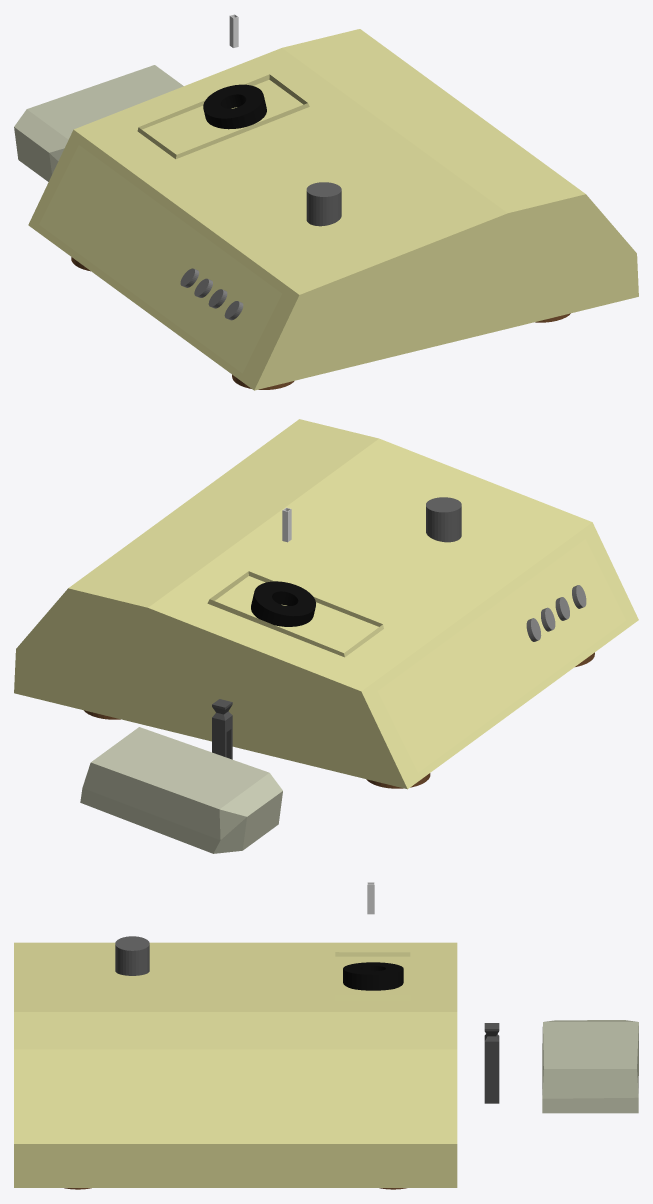
Rendered from spektrometer.fbx.
3 renders of one model, top to bottom at view 1: azimuth 30°, elevation 25°; view 2: azimuth 150°, elevation 25°; view 3: azimuth 270°, elevation 25°, orthographic. The views are drawn at different scales.
Parts seen in each view (by area): view 1: Cube, Cube.002, Cylinder.006, Cylinder.005; view 2: Cube, Cube.002, Cylinder.006, Cylinder.005, Cube.001; view 3: Cube, Cube.002, Cylinder.006, Cylinder.005, Cube.001.
Boxes of the visible parts, <box> form: Cube: <box>28,29,638,390</box>; Cube.002: <box>14,65,183,181</box>; Cylinder.006: <box>203,84,266,129</box>; Cylinder.005: <box>306,182,341,226</box>; Cube: <box>14,419,638,789</box>; Cube.002: <box>80,727,282,853</box>; Cylinder.006: <box>251,581,315,626</box>; Cylinder.005: <box>426,497,461,542</box>; Cube.001: <box>212,699,232,759</box>; Cube: <box>14,942,457,1187</box>; Cube.002: <box>542,1020,638,1113</box>; Cylinder.006: <box>343,962,403,990</box>; Cylinder.005: <box>115,936,149,975</box>; Cube.001: <box>484,1023,499,1103</box>.
Bounding box in the file's own units: 770 × 424 × 1105.
